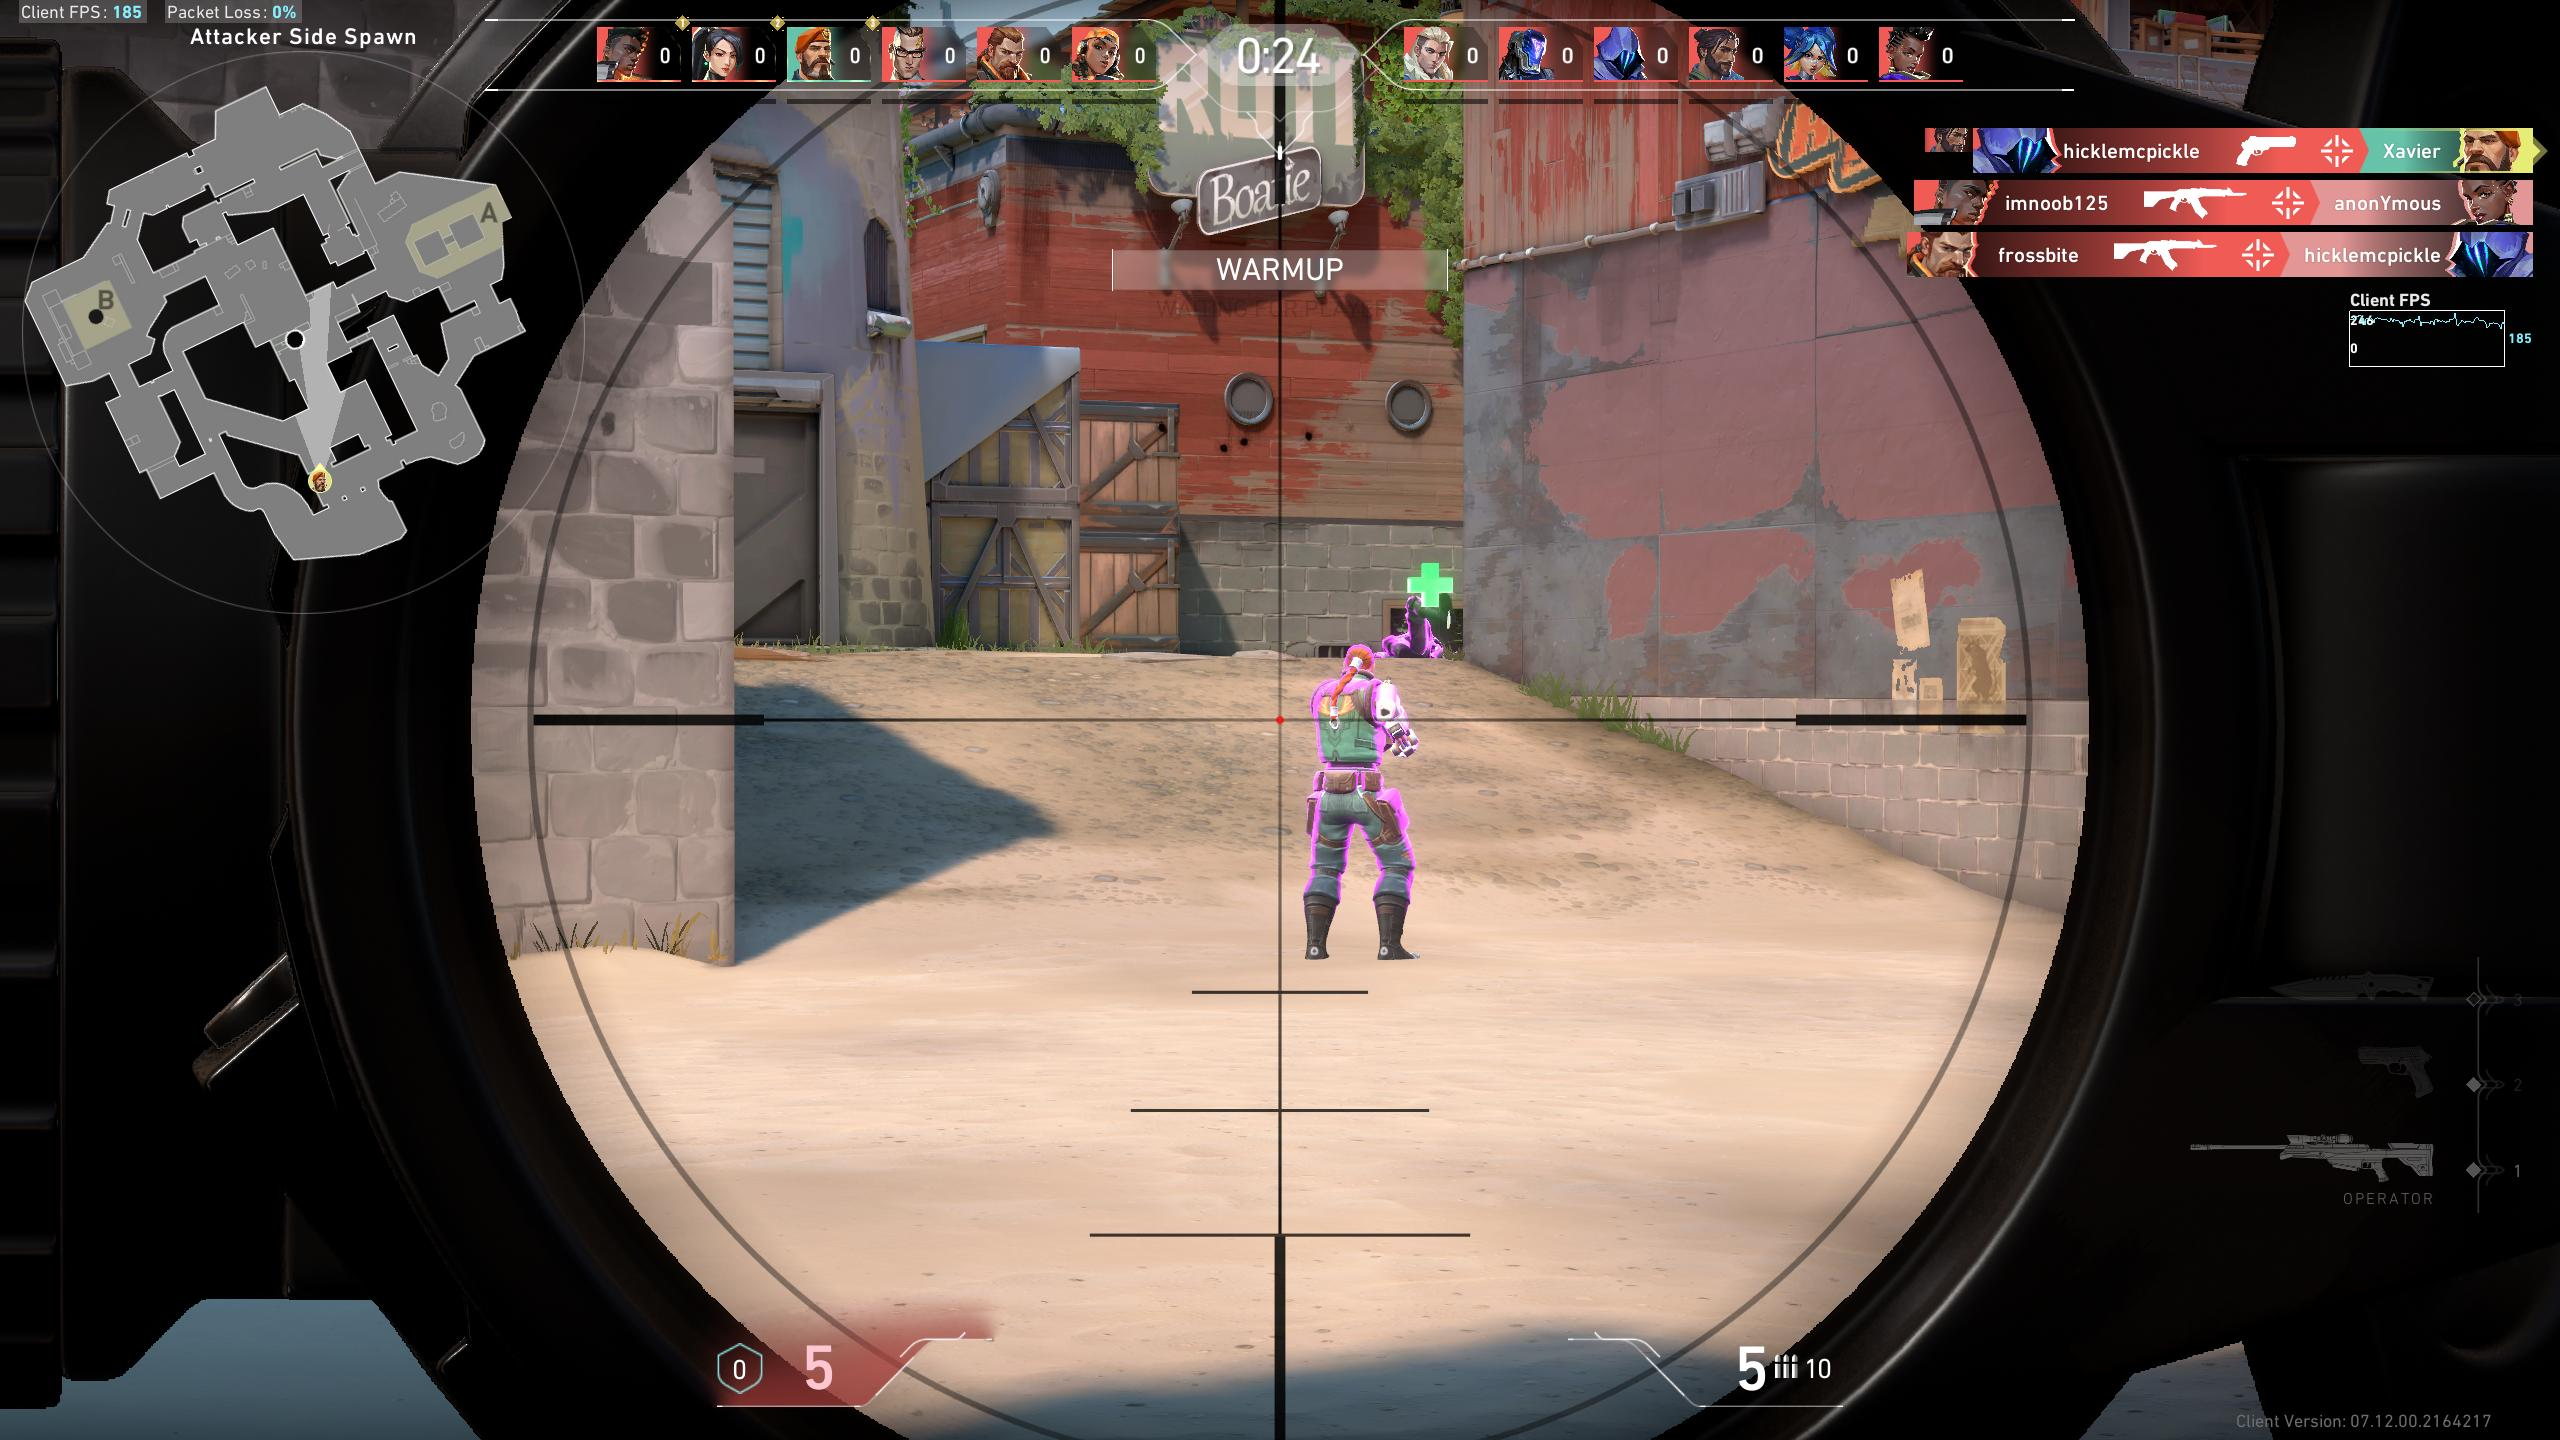enemyBody: (1312, 682, 1398, 814)
enemyHead: (1343, 644, 1380, 682)
